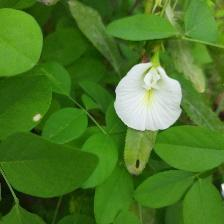shankupushpam: (114, 61, 185, 135)
